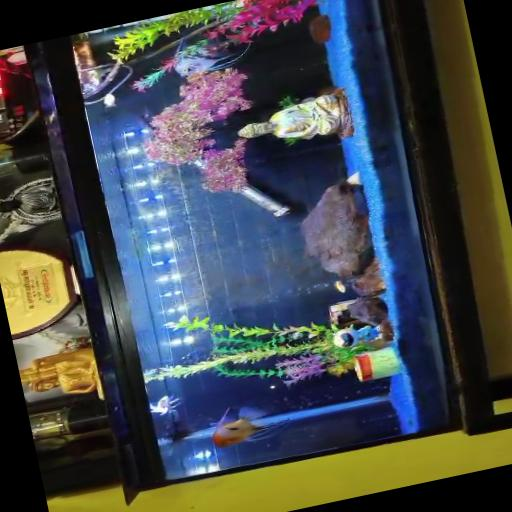Fish: (212, 407, 289, 446), (175, 38, 249, 76), (150, 394, 180, 414), (103, 92, 117, 106), (335, 279, 346, 291)
